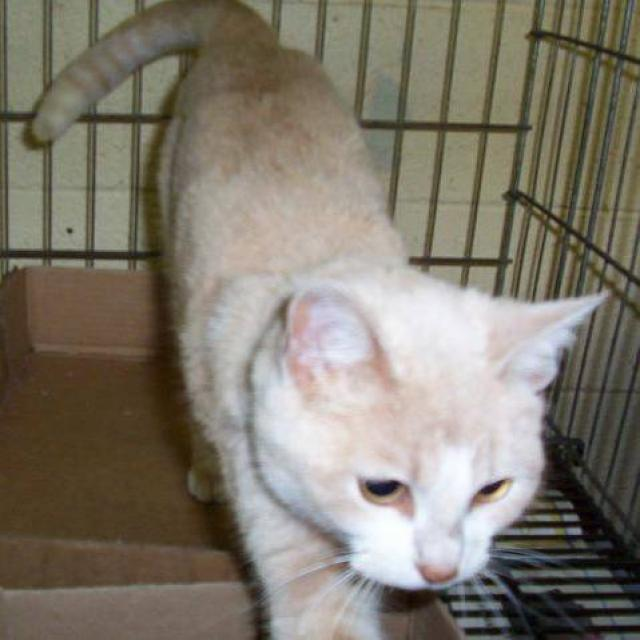Cat: (238, 250, 604, 601)
